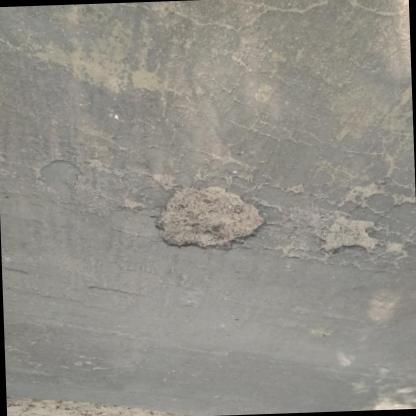pothole: (154, 183, 270, 255), (317, 216, 382, 258)
